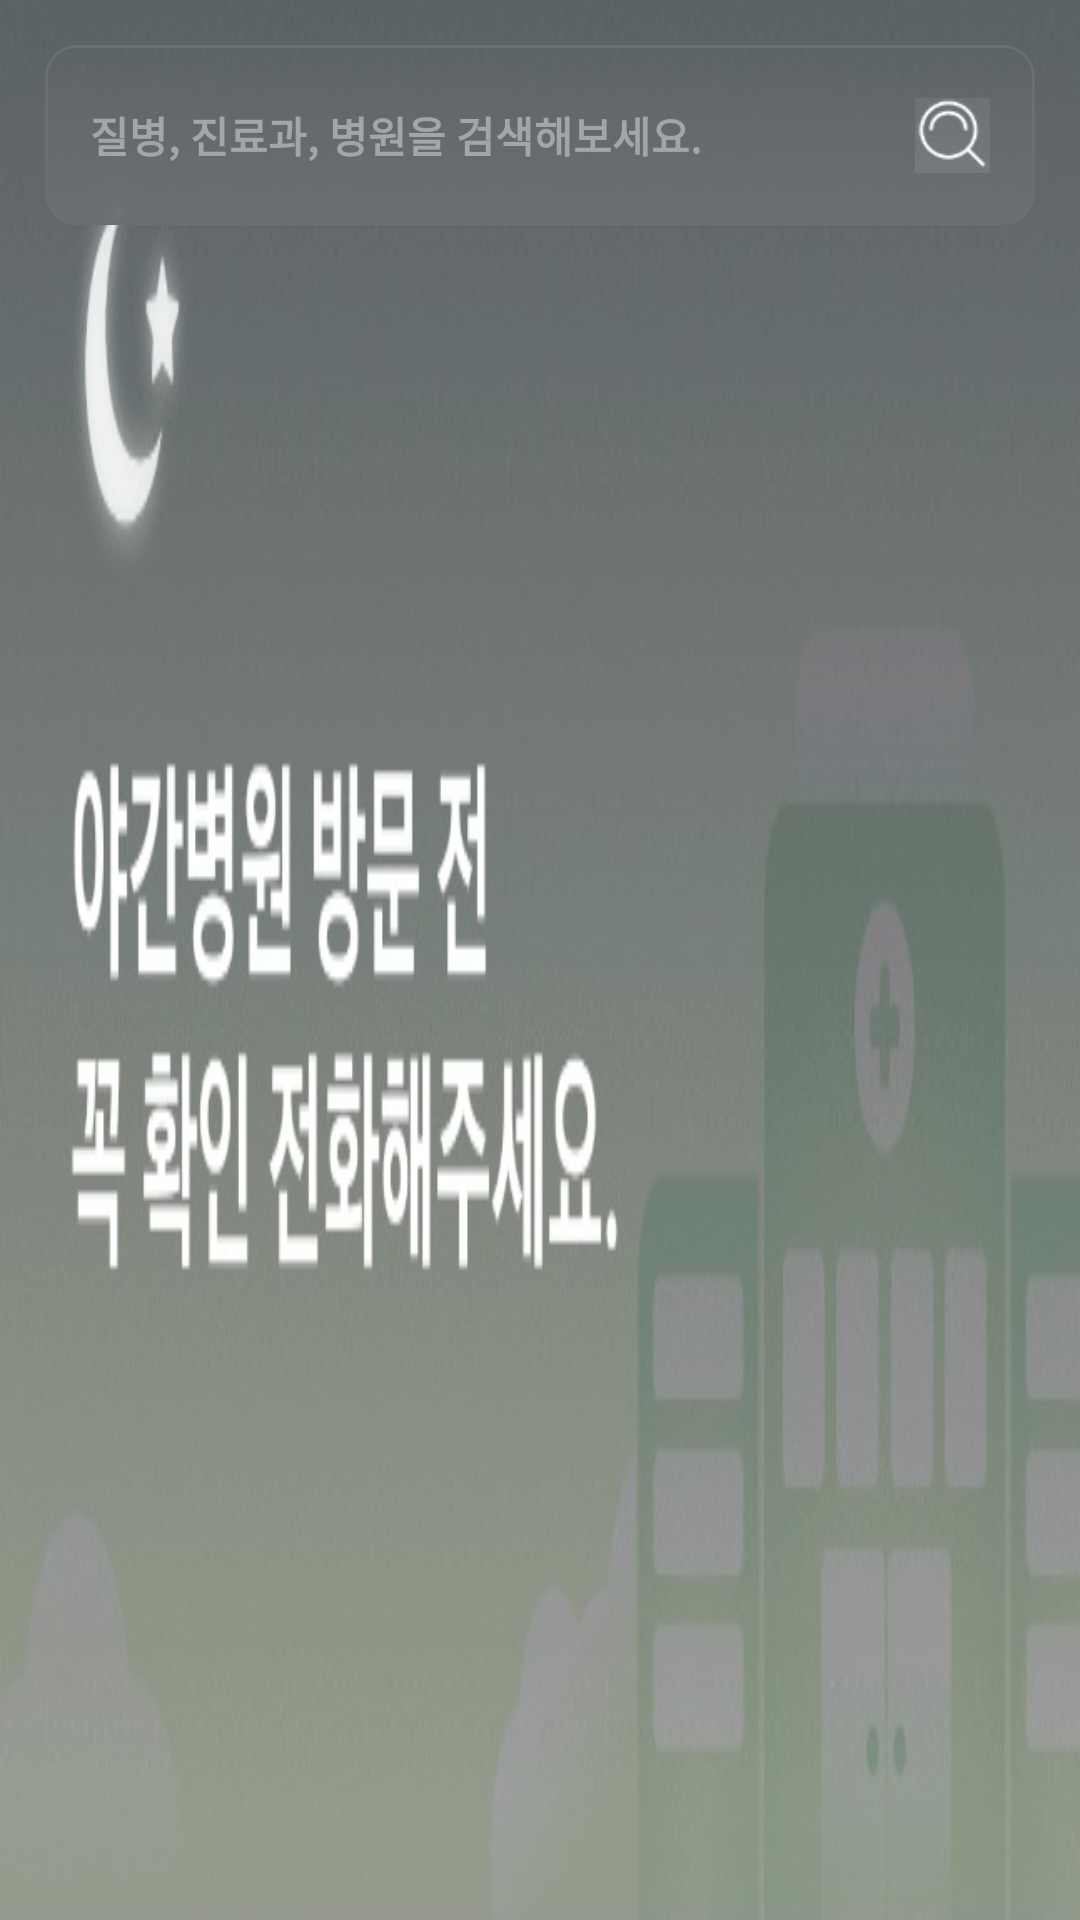

Where to tap for icons on this 1080×1920 app screen, as (x=x, y=y):
home search: (x=952, y=134)
